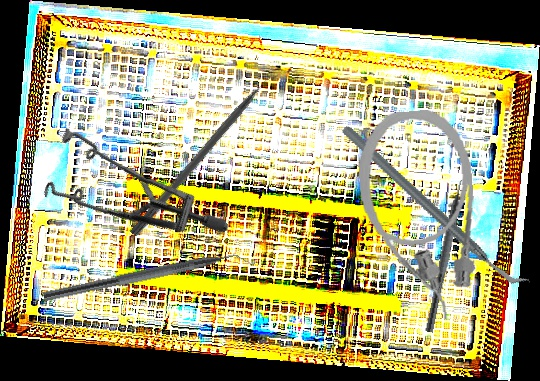Cannula: (354, 106, 484, 326)
Chopper: (339, 83, 531, 329), (43, 244, 255, 316), (424, 169, 477, 335)
Pusher: (129, 65, 282, 239)
Speculum: (19, 83, 231, 306)
